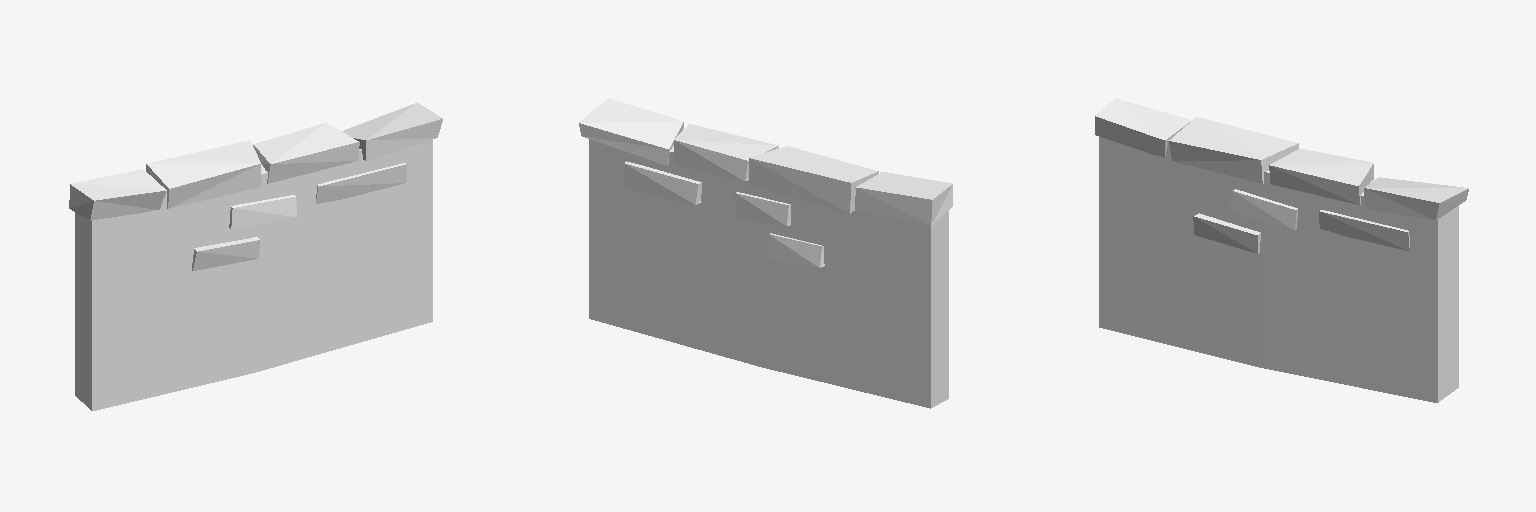
Rendered from wallBrick.obj.
The picture shows the model from 3 angles: view 1: azimuth 30°, elevation 25°; view 2: azimuth 150°, elevation 25°; view 3: azimuth 330°, elevation 25°; orthographic projection.
Parts seen in each view (by area): view 1: gtmfc_brick_wall_1_Mesh.003; view 2: gtmfc_brick_wall_1_Mesh.003; view 3: gtmfc_brick_wall_1_Mesh.003.
Part boxes in pixels (x1,y1,x2,y2): gtmfc_brick_wall_1_Mesh.003: (69, 102, 442, 410); gtmfc_brick_wall_1_Mesh.003: (579, 98, 952, 408); gtmfc_brick_wall_1_Mesh.003: (1095, 98, 1468, 402).
Bounding box in the file's own units: 2.14 × 1.24 × 0.2957.